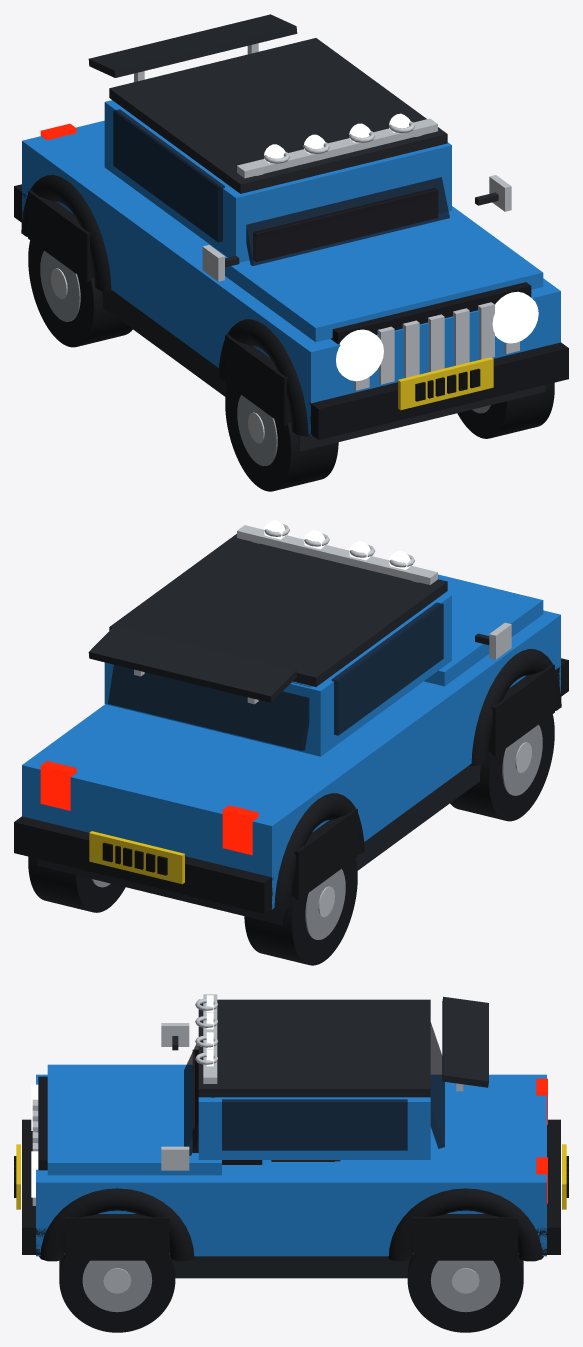
Rendered from vehicle_rally.glb.
The picture shows the model from 3 angles, top to bottom: view 1: azimuth 30°, elevation 25°; view 2: azimuth 150°, elevation 25°; view 3: azimuth 270°, elevation 25°; orthographic projection. The views are drawn at different scales.
Parts seen in each view (by area): view 1: chassis, wheel_FL, wheel_RL, wheel_FR, mirror_left, mirror_right; view 2: chassis, wheel_RL, wheel_FL, wheel_RR, mirror_left; view 3: chassis, wheel_FR, wheel_RR, mirror_right, mirror_left.
Boxes of the visible parts, left/top/right/bottom form: chassis: left=14, top=14, right=568, bottom=451; wheel_FL: left=225, top=384, right=338, bottom=491; wheel_RL: left=28, top=240, right=132, bottom=347; wheel_FR: left=457, top=382, right=554, bottom=438; mirror_left: left=202, top=245, right=239, bottom=281; mirror_right: left=475, top=175, right=511, bottom=211; chassis: left=14, top=520, right=568, bottom=925; wheel_RL: left=244, top=858, right=357, bottom=965; wheel_FL: left=450, top=714, right=554, bottom=821; wheel_RR: left=28, top=856, right=125, bottom=912; mirror_left: left=475, top=622, right=511, bottom=659; chassis: left=14, top=994, right=568, bottom=1278; wheel_FR: left=59, top=1255, right=175, bottom=1332; wheel_RR: left=407, top=1255, right=523, bottom=1332; mirror_right: left=161, top=1146, right=189, bottom=1170; mirror_left: left=161, top=1023, right=189, bottom=1050.
Bounding box in the file's own units: 2.58 × 2.4 × 4.78.
